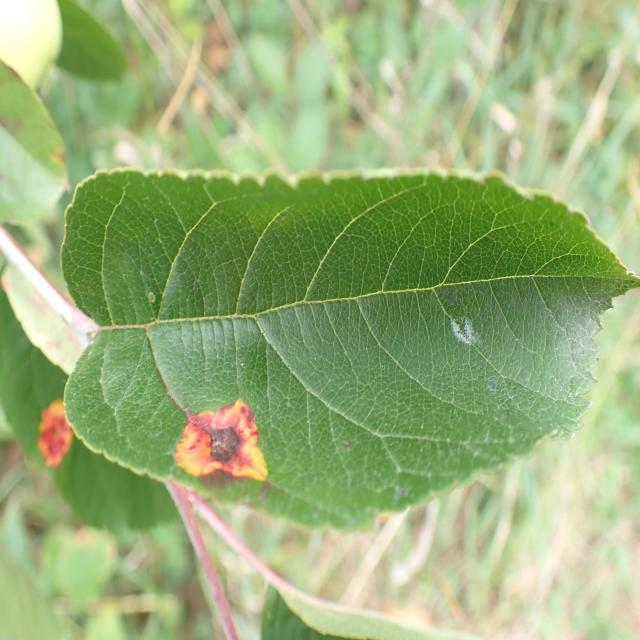Rust: (150, 381, 284, 512), (27, 390, 84, 482)
